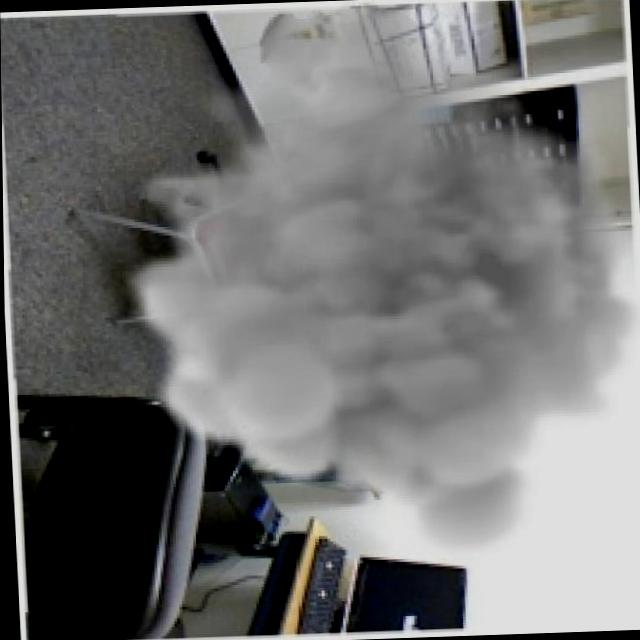Smoke: (128, 65, 615, 501)
